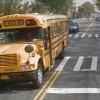Bus: (2, 7, 72, 85)
